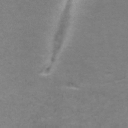finishing roll printing: (45, 0, 73, 73)
